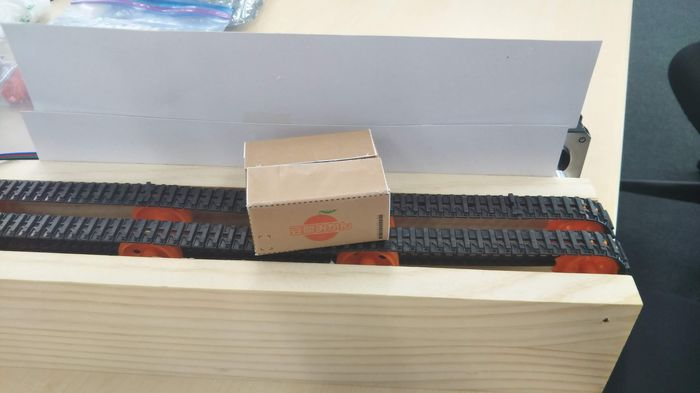box1: (240, 124, 394, 254)
